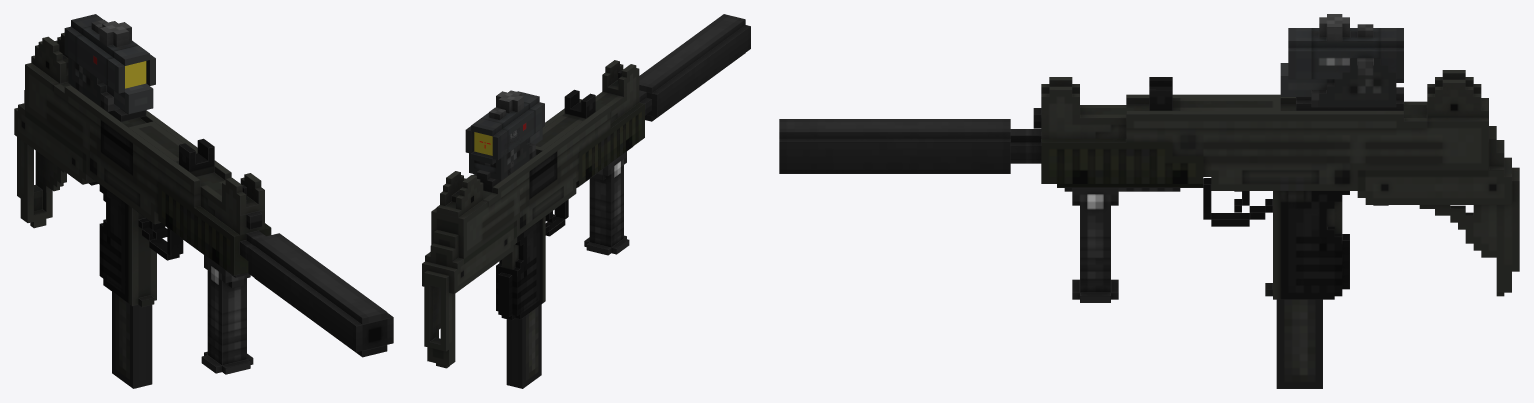
File: RD_UZI_NY.glb
3 renders of one model, left to right at view 1: azimuth 30°, elevation 25°; view 2: azimuth 150°, elevation 25°; view 3: azimuth 270°, elevation 25°, orthographic. The views are drawn at different scales.
Parts seen in each view (by area): view 1: UZI, SILENCER_6X6, SCOPE_TASCO, GRIP1, UZI_CLIP, UZI_BOLT, SCOPE_EOTECH; view 2: UZI, SILENCER_6X6, SCOPE_TASCO, GRIP1, UZI_CLIP, UZI_BOLT, SCOPE_EOTECH, UZI_PLANK; view 3: UZI, SILENCER_6X6, SCOPE_TASCO, GRIP1, UZI_CLIP, SCOPE_EOTECH, UZI_BOLT, UZI_PLANK.
Part boxes in pixels (left/top/right/bottom): UZI: left=14, top=32, right=271, bottom=307; SILENCER_6X6: left=248, top=233, right=393, bottom=357; SCOPE_TASCO: left=64, top=14, right=155, bottom=111; GRIP1: left=182, top=238, right=253, bottom=374; UZI_CLIP: left=112, top=292, right=152, bottom=388; UZI_BOLT: left=129, top=121, right=214, bottom=176; SCOPE_EOTECH: left=68, top=57, right=153, bottom=114; UZI: left=422, top=60, right=651, bottom=368; SILENCER_6X6: left=639, top=14, right=750, bottom=121; SCOPE_TASCO: left=465, top=90, right=544, bottom=175; GRIP1: left=578, top=151, right=629, bottom=255; UZI_CLIP: left=506, top=304, right=541, bottom=388; UZI_BOLT: left=535, top=89, right=595, bottom=154; SCOPE_EOTECH: left=469, top=128, right=542, bottom=180; UZI_PLANK: left=473, top=152, right=535, bottom=192; UZI: left=1010, top=70, right=1519, bottom=299; SILENCER_6X6: left=779, top=119, right=1010, bottom=173; SCOPE_TASCO: left=1288, top=14, right=1403, bottom=107; GRIP1: left=1064, top=188, right=1180, bottom=302; UZI_CLIP: left=1276, top=299, right=1322, bottom=388; SCOPE_EOTECH: left=1280, top=58, right=1396, bottom=107; UZI_BOLT: left=1149, top=77, right=1280, bottom=110; UZI_PLANK: left=1296, top=87, right=1403, bottom=110.
Size of the model in its own units: 0.0689 by 0.5117 by 0.9446.
Materials: 7 (7 with a texture image).
